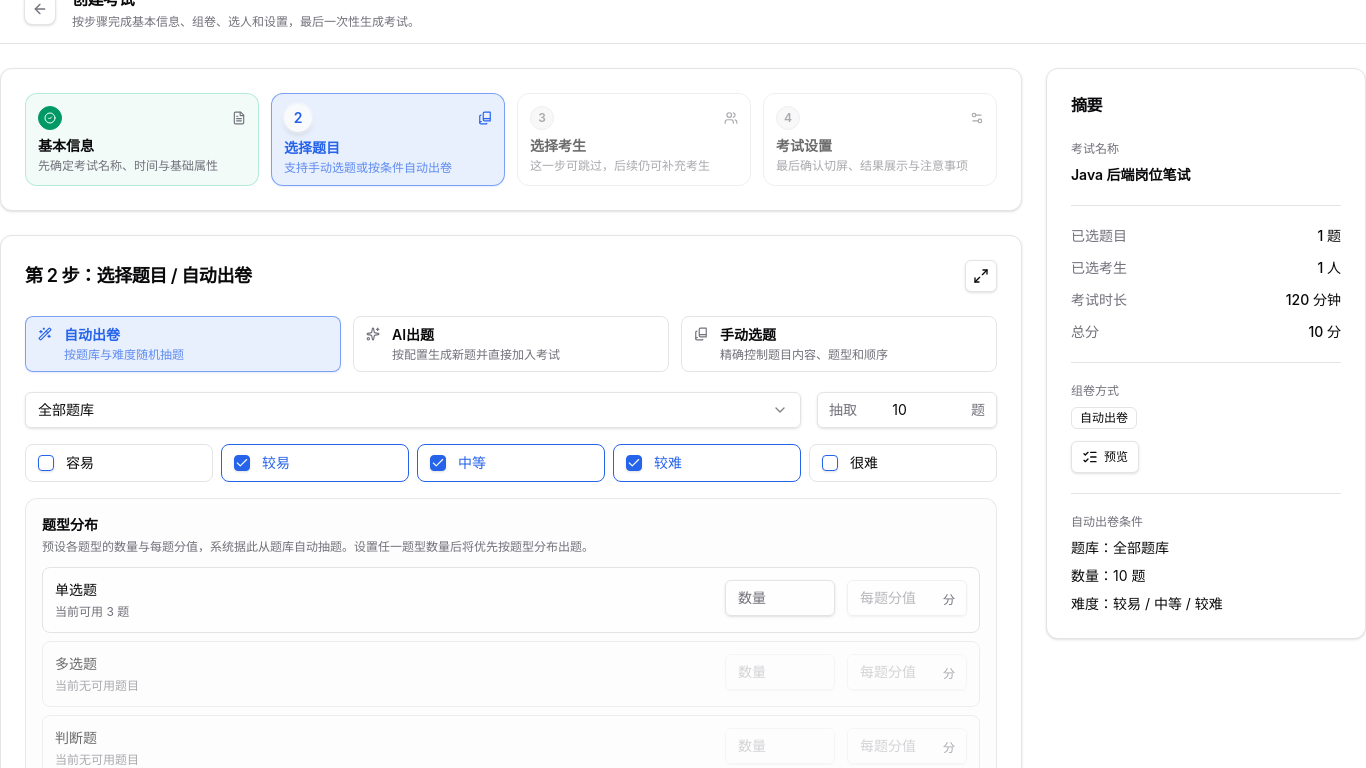
ExamWizardForm › keeps generated questions when switching from auto mode to manual mode
Click the button "手动选题 精确控制题目内容、题型和顺序": (839, 344) [681,316,997,372]
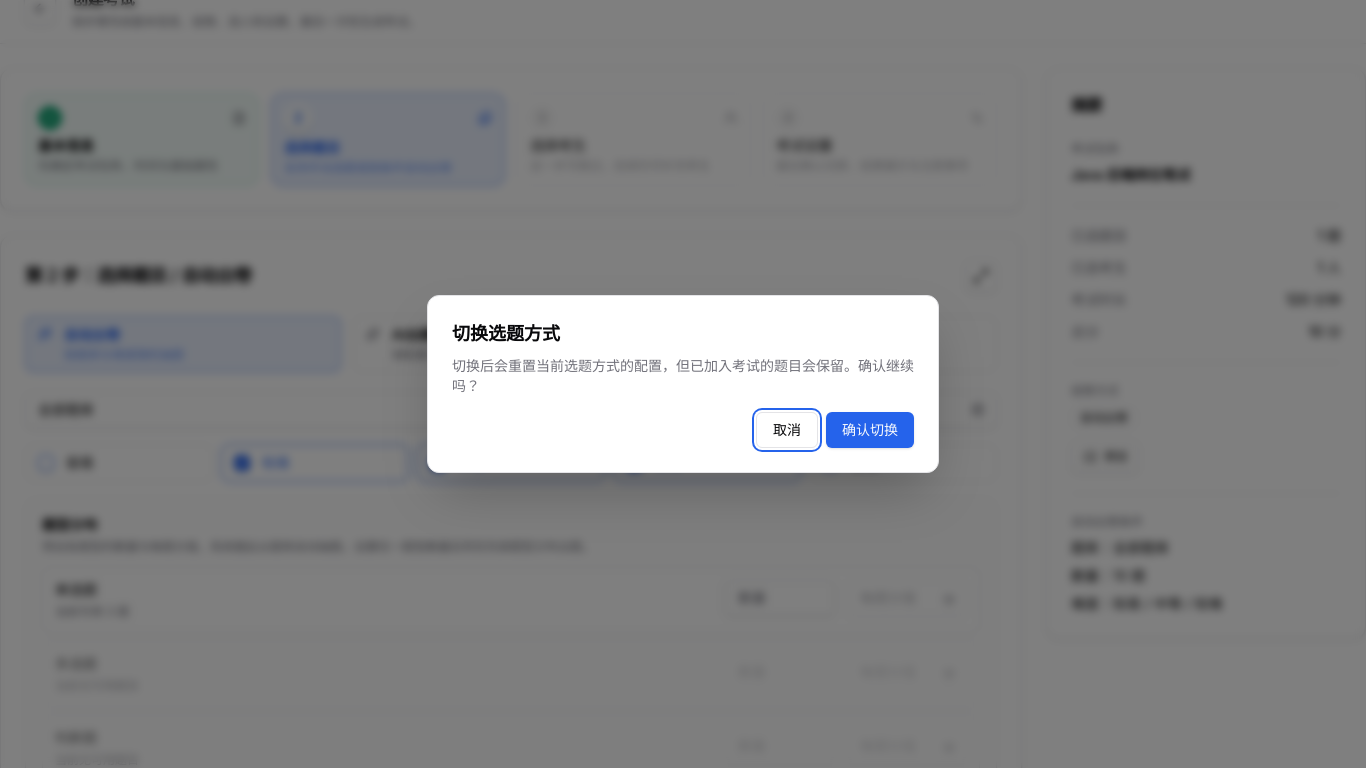
Now the text "切换后会重置当前选题方式的配置，但已加入考试的题目会保留。确认继续吗？" is shown, box [452,356,914,396]
Click the button "确认切换": (870, 430) [826,412,914,448]
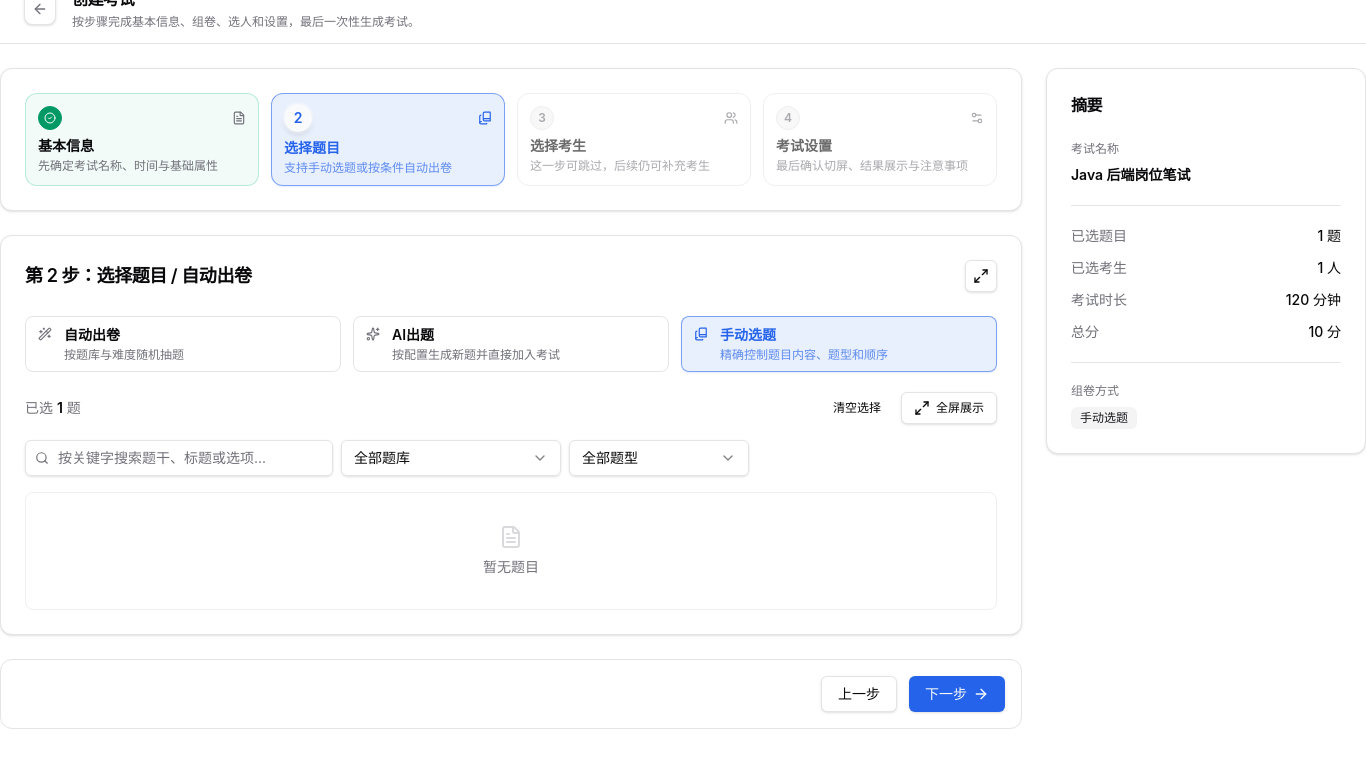
Now the button "清空选择" is shown, box [821,392,893,424]
